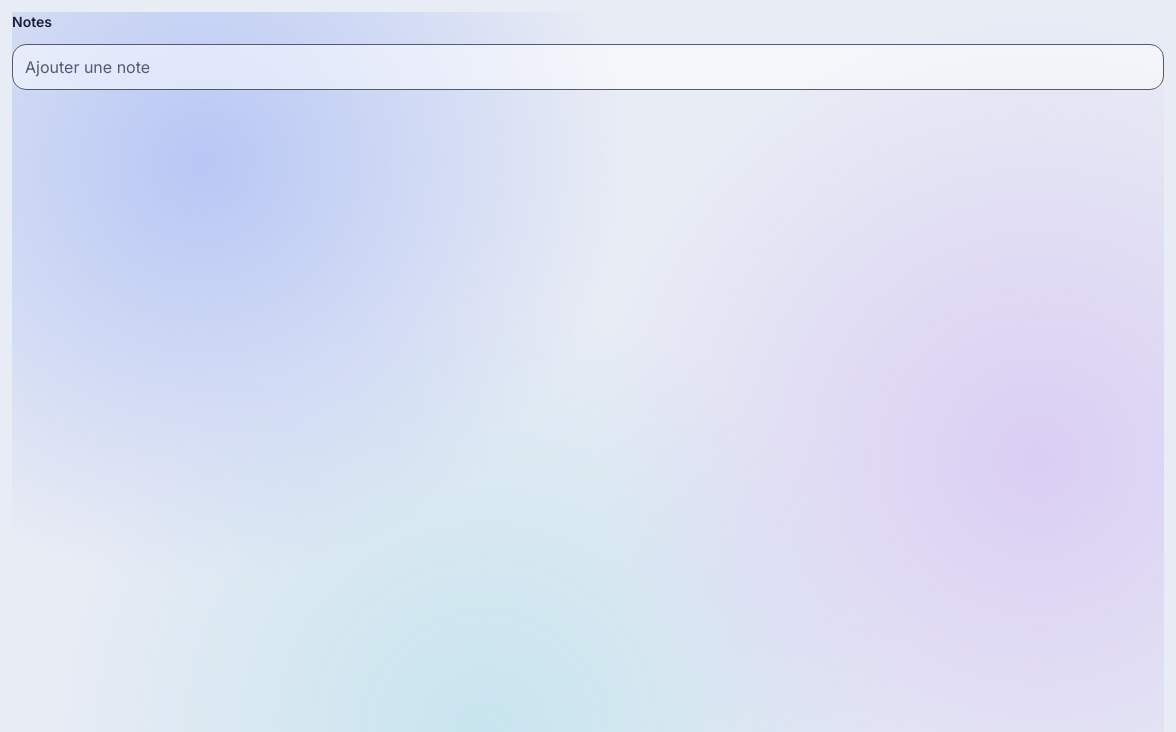
Test: champ de notes repliable › au focus : le même champ s'agrandit, et reste déplié au départ même resté vide (rien ne bouge sous le pointeur)
The width and height of the screenshot is (1176, 732).
Step 1. Focus the text box labelled "Notes" → coordinates (588, 67), box [12, 44, 1164, 90]
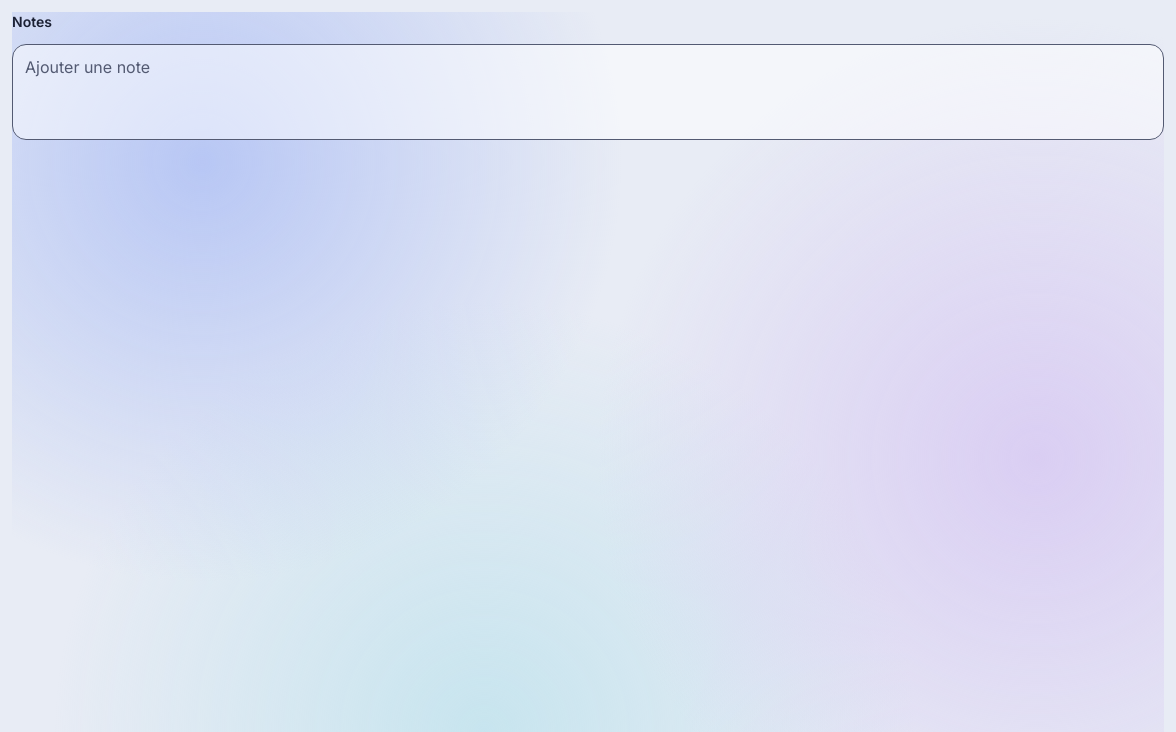
Check: the text box labelled "Notes" has attribute data-collapsed="false"
Step 2. Leave the text box labelled "Notes", box [12, 44, 1164, 140]
Check: the text box labelled "Notes" has attribute data-collapsed="false", box [12, 44, 1164, 140]
